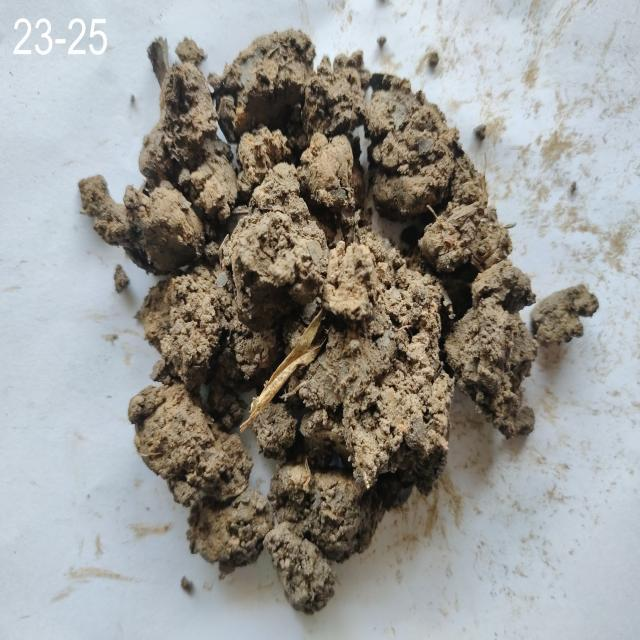soil: (193, 122, 440, 442)
